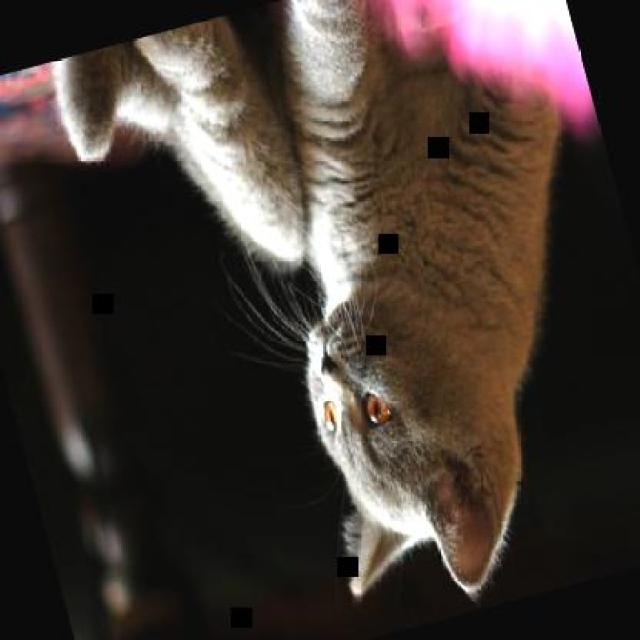cat: (41, 0, 638, 638)
